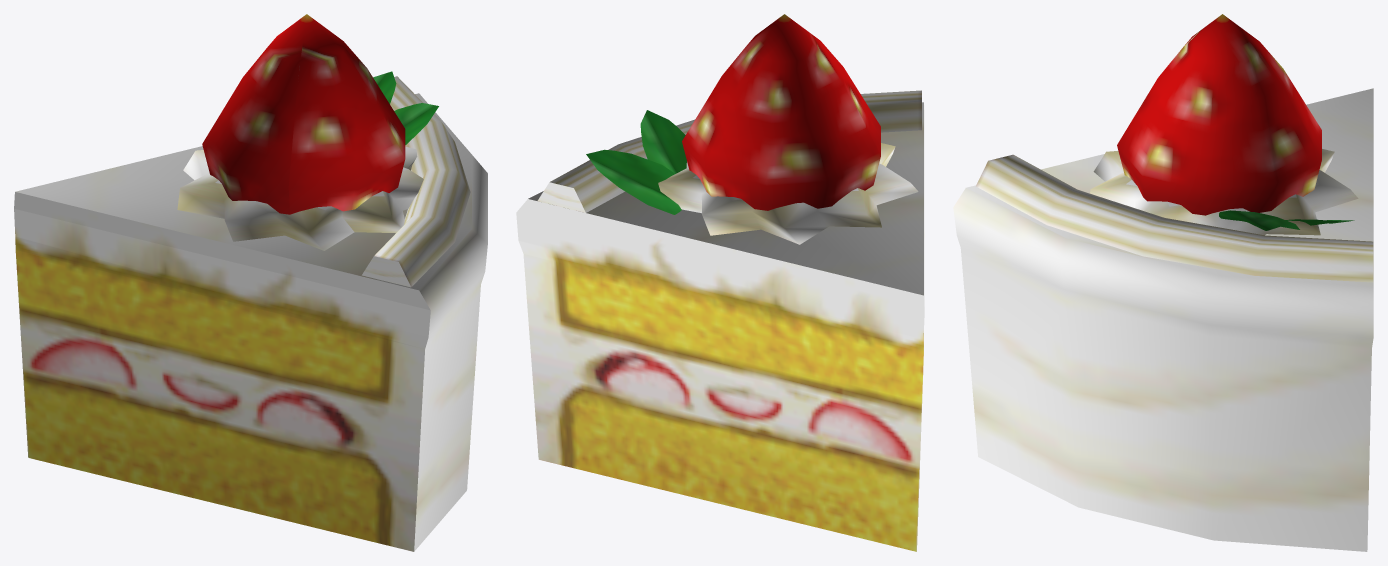
File: Sweet.ico.obj
3 renders of one model, left to right at view 1: azimuth 30°, elevation 25°; view 2: azimuth 150°, elevation 25°; view 3: azimuth 270°, elevation 25°, orthographic. The views are drawn at different scales.
Size of the model in its own units: 3.41 by 3.49 by 2.96.
1 material, 1 textured.
